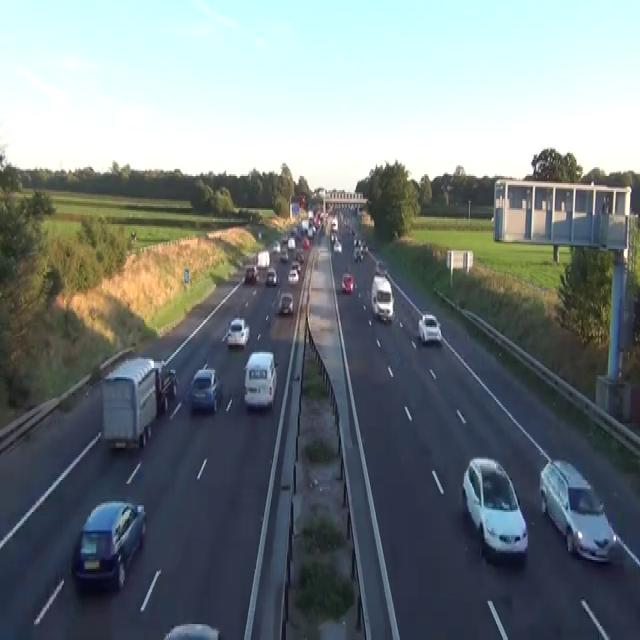Car: (539, 458, 619, 564), (461, 455, 528, 562), (71, 500, 146, 590), (243, 350, 277, 409), (190, 364, 222, 412), (153, 359, 177, 413), (160, 622, 225, 638), (417, 313, 441, 343), (226, 316, 249, 346), (278, 292, 293, 314), (341, 272, 353, 293), (244, 265, 258, 283), (168, 368, 177, 396), (265, 267, 278, 286), (375, 260, 387, 276), (221, 324, 230, 343), (287, 268, 299, 282), (353, 247, 362, 261), (333, 240, 342, 252), (279, 249, 288, 261), (291, 260, 300, 272), (287, 236, 295, 249), (331, 217, 338, 231), (272, 240, 280, 252), (296, 249, 304, 261), (302, 236, 309, 249), (301, 219, 308, 231), (130, 229, 136, 242), (300, 194, 306, 206), (281, 233, 288, 243), (330, 233, 337, 243), (307, 226, 314, 236), (258, 229, 262, 240)
Truck: (101, 356, 177, 452), (371, 274, 393, 322)
